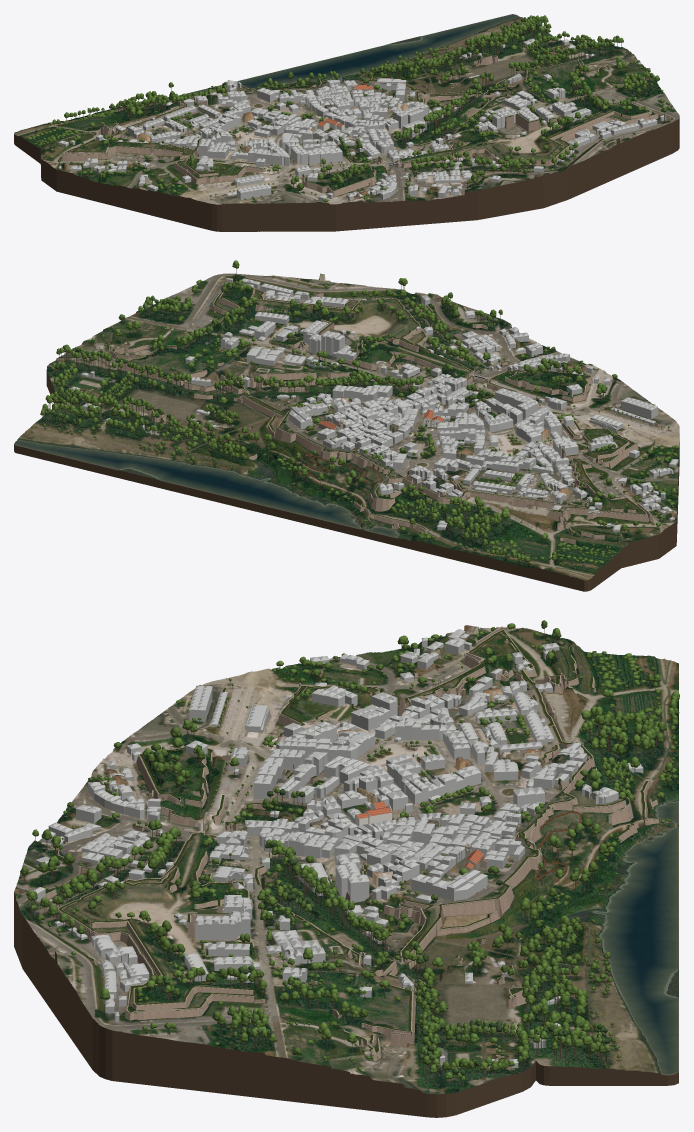
The model's file is moncao.glb.
The picture shows the model from 3 angles, top to bottom: view 1: azimuth 30°, elevation 25°; view 2: azimuth 150°, elevation 25°; view 3: azimuth 270°, elevation 25°; orthographic projection. The views are drawn at different scales.
Parts seen in each view (by area): view 1: Terreno, Casario, Base, Vegetacao, Escarpas, Terreno_rio; view 2: Terreno, Casario, Vegetacao, Escarpas, Base, Terreno_rio, Cunhais; view 3: Terreno, Casario, Vegetacao, Base, Escarpas, Terreno_rio, Cunhais.
Boxes of the visible parts, bbox=[...] form: Terreno: bbox=[14, 17, 679, 204]; Casario: bbox=[58, 38, 665, 202]; Base: bbox=[14, 40, 679, 231]; Vegetacao: bbox=[27, 15, 672, 202]; Escarpas: bbox=[61, 46, 658, 196]; Terreno_rio: bbox=[179, 14, 519, 95]; Terreno: bbox=[14, 273, 679, 580]; Casario: bbox=[64, 278, 678, 532]; Vegetacao: bbox=[40, 260, 679, 566]; Escarpas: bbox=[80, 282, 659, 544]; Base: bbox=[14, 276, 679, 591]; Terreno_rio: bbox=[15, 440, 399, 537]; Cunhais: bbox=[81, 293, 651, 543]; Terreno: bbox=[14, 625, 678, 1094]; Casario: bbox=[32, 626, 643, 1070]; Vegetacao: bbox=[20, 620, 679, 1088]; Base: bbox=[14, 655, 678, 1117]; Escarpas: bbox=[45, 626, 658, 1061]; Terreno_rio: bbox=[592, 800, 677, 1073]; Cunhais: bbox=[55, 657, 650, 1059].
Bounding box in the file's own units: 961 × 77.01 × 596.
17 materials, 5 textured.
